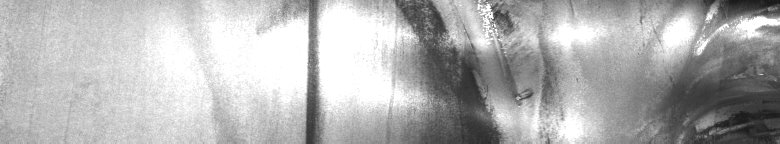ke: (680, 4, 776, 136)
